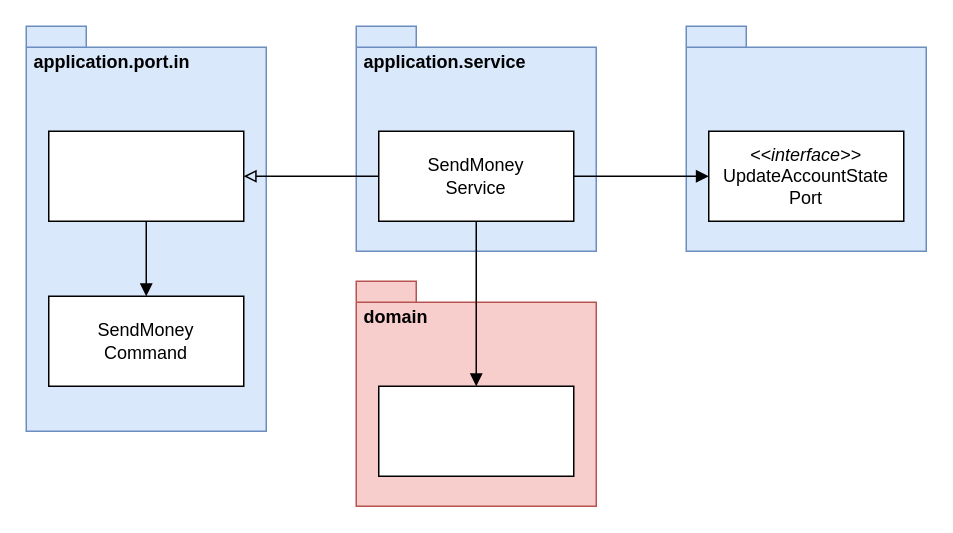
Some shapes in this 953 by 533 pixel diagram are drawn without their labels. The shapes that lost their labels are listed below. From the top down, each one's box as (x1, y1, x2, y2) in pixels, then its label:
(685, 25, 926, 251): application.port.out
(47, 130, 244, 221): <<interface>> SendMoney UseCase
(377, 385, 574, 476): Account
